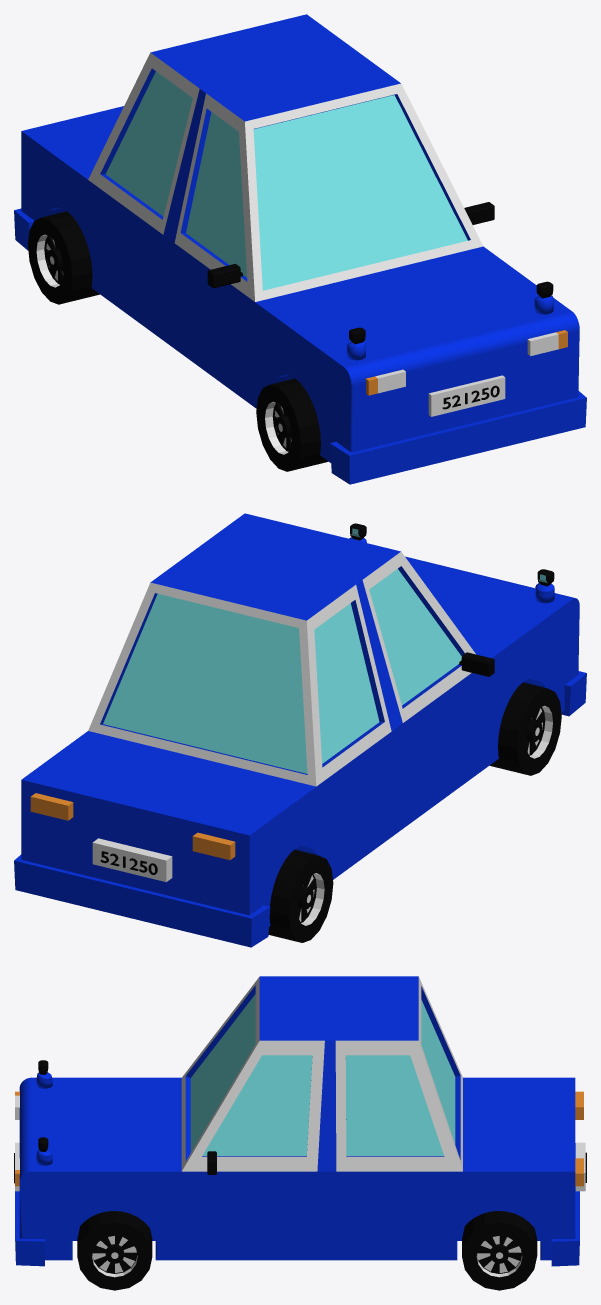
Rendered from Low_poly_car.fbx.
The picture shows the model from 3 angles, top to bottom: view 1: azimuth 30°, elevation 25°; view 2: azimuth 150°, elevation 25°; view 3: azimuth 270°, elevation 25°; orthographic projection. The views are drawn at different scales.
Parts seen in each view (by area): view 1: Text, Cylinder.004, Cylinder.001; view 2: Text, Cylinder.001, Cylinder.004; view 3: Text, Cylinder.001, Cylinder.004.
Boxes of the visible parts, x1,y1,x2,y2 form: Text: (14, 14, 586, 484); Cylinder.004: (28, 211, 99, 304); Cylinder.001: (256, 378, 328, 471); Text: (14, 513, 586, 947); Cylinder.001: (489, 682, 561, 775); Cylinder.004: (268, 849, 333, 942); Text: (14, 976, 586, 1266); Cylinder.001: (77, 1211, 152, 1290); Cylinder.004: (462, 1211, 537, 1290).
Size of what is drawn, in the model's own units: 289 by 266 by 605.
